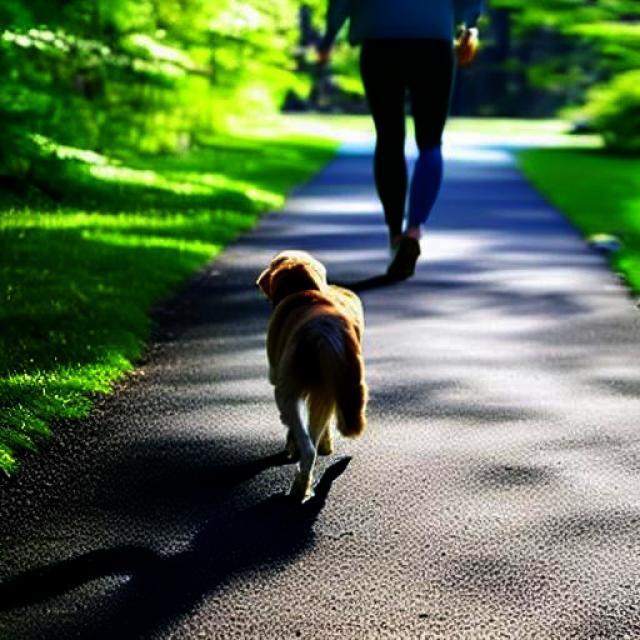Unleashed_Dog: (256, 43, 452, 504)
